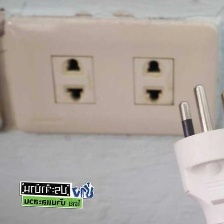three_eye_plug: (0, 11, 221, 139)
